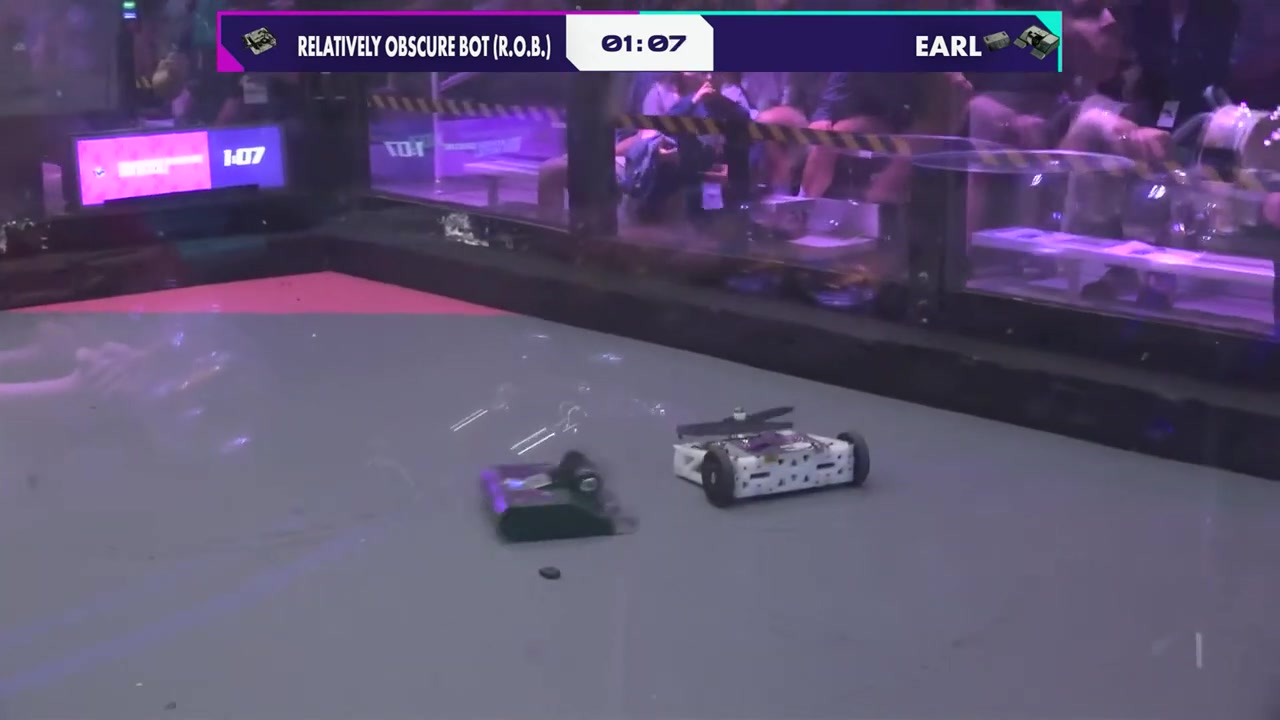combatbot: (671, 403, 873, 507), (476, 448, 642, 545)
debris: (539, 565, 562, 585)
